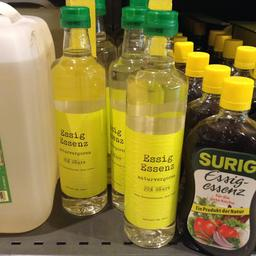vinegar: (121, 10, 177, 248), (48, 4, 109, 218), (186, 76, 252, 254)
